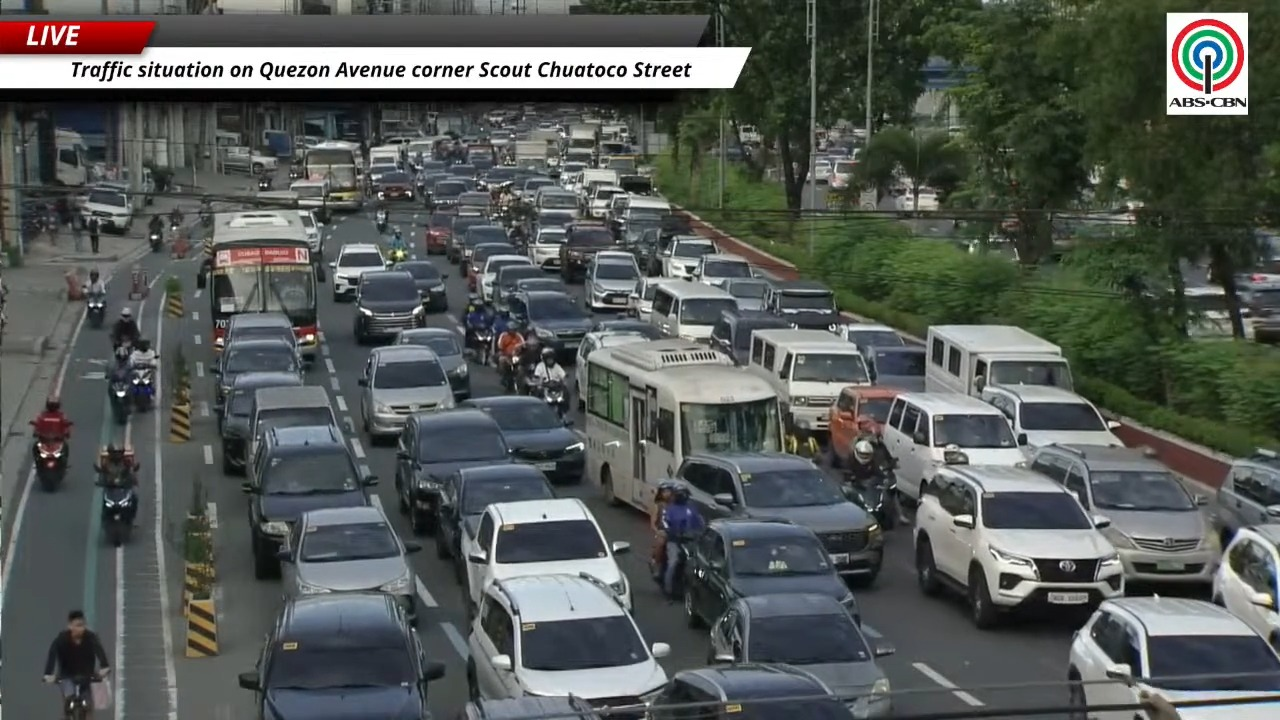bus: (578, 339, 783, 511), (197, 210, 318, 361), (304, 141, 363, 211)
car: (914, 465, 1124, 628), (466, 572, 668, 708), (675, 452, 883, 583), (1030, 444, 1221, 585), (1067, 596, 1279, 719), (238, 593, 444, 719), (708, 594, 893, 717), (460, 498, 631, 619), (242, 426, 375, 578), (683, 520, 860, 626), (279, 506, 420, 623), (395, 409, 514, 533), (436, 463, 555, 582), (646, 663, 855, 719), (461, 395, 585, 482), (981, 384, 1123, 451), (358, 345, 454, 440), (218, 372, 301, 474), (1211, 524, 1279, 646), (214, 338, 302, 409), (573, 330, 650, 410), (1216, 448, 1279, 543), (508, 291, 592, 359), (392, 327, 470, 400), (828, 385, 898, 466), (353, 269, 425, 344), (710, 309, 789, 366), (764, 280, 843, 331), (560, 221, 620, 283), (488, 258, 557, 307), (583, 252, 640, 311), (457, 696, 601, 719), (330, 243, 386, 301), (215, 312, 296, 351), (477, 254, 541, 302), (863, 345, 925, 391), (395, 260, 448, 311), (465, 242, 518, 291), (495, 275, 567, 310), (660, 235, 717, 279), (80, 187, 133, 234), (837, 322, 906, 354), (460, 221, 513, 262), (446, 213, 490, 262), (692, 253, 753, 288), (627, 277, 665, 323), (528, 225, 566, 269), (592, 317, 664, 339), (722, 277, 769, 310), (428, 176, 467, 211), (586, 186, 626, 220), (373, 169, 414, 201), (424, 213, 452, 254), (534, 209, 577, 234), (366, 162, 400, 193), (517, 175, 554, 201), (458, 189, 491, 214), (448, 164, 478, 178)
motorcycle: (848, 468, 898, 529), (97, 477, 137, 546), (62, 673, 102, 719), (35, 437, 66, 491), (108, 376, 132, 424), (537, 380, 568, 417), (131, 366, 153, 412), (671, 540, 688, 597), (472, 327, 493, 365), (512, 362, 536, 394), (86, 293, 105, 328), (388, 248, 408, 266), (148, 231, 163, 252), (375, 209, 387, 233), (257, 176, 272, 190), (289, 165, 304, 179), (200, 210, 213, 226), (169, 220, 180, 236)
truck: (926, 325, 1073, 396), (15, 121, 90, 187), (220, 146, 277, 174), (566, 123, 599, 151), (512, 140, 547, 165), (529, 129, 560, 142)
